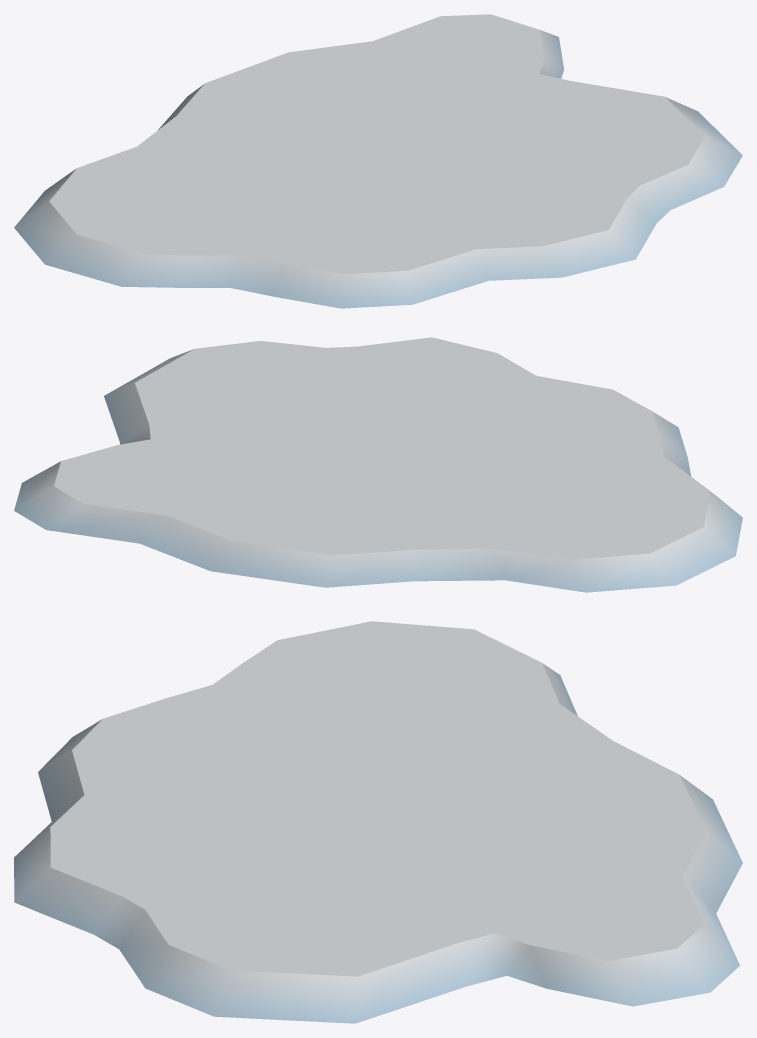
The model's file is snow-flat-large.glb.
The picture shows the model from 3 angles, top to bottom: view 1: azimuth 30°, elevation 25°; view 2: azimuth 150°, elevation 25°; view 3: azimuth 270°, elevation 25°; orthographic projection. The views are drawn at different scales.
Visible parts, largest first — view 1: snow-flat-large; view 2: snow-flat-large; view 3: snow-flat-large.
Part boxes in pixels (bbox=[...]): snow-flat-large: bbox=[14, 14, 742, 308]; snow-flat-large: bbox=[14, 337, 742, 592]; snow-flat-large: bbox=[14, 621, 742, 1023].
Bounding box in the file's own units: 3.09 × 0.1 × 2.41.
